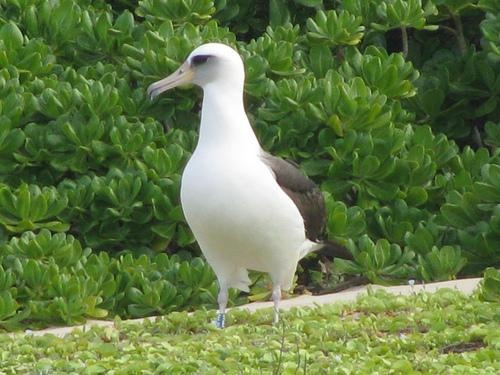bird: (143, 42, 331, 329)
